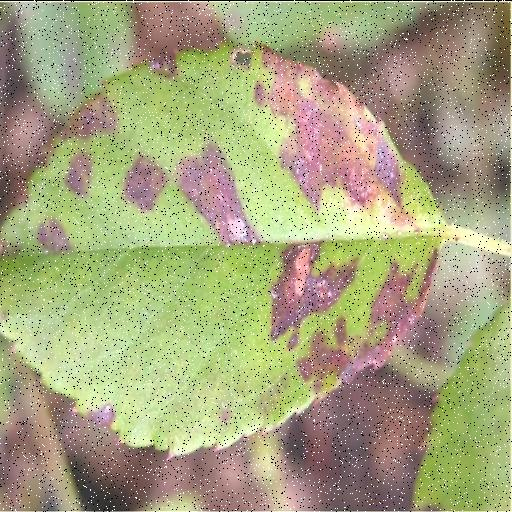downy_mildew: (0, 47, 445, 454)
